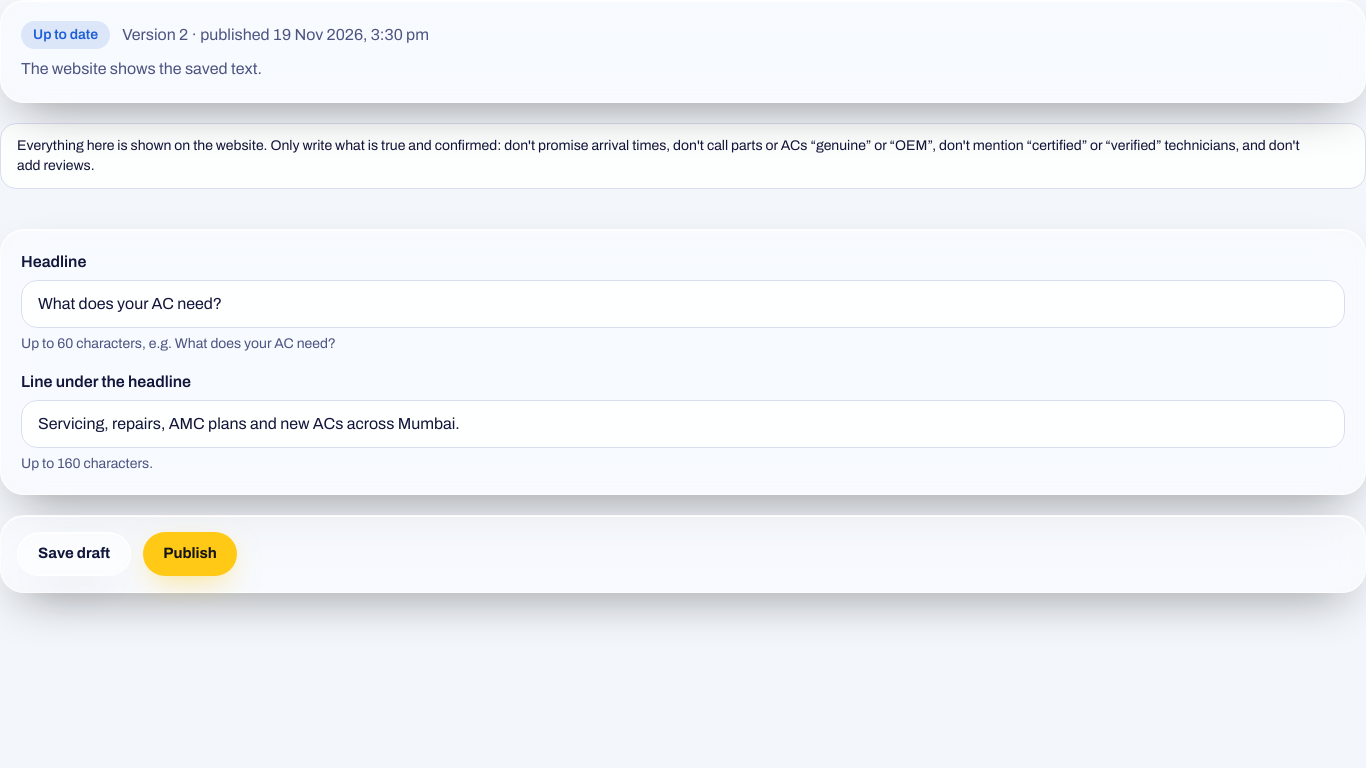
ContentEditor: saving and publishing › asks "Publish to the live website?" first, and publishes only on yes
What coordinates should you click on to do the following:
click the button "Publish"
I would click on:
 (190, 554)
Its box is top-left (143, 532), bottom-right (237, 576).
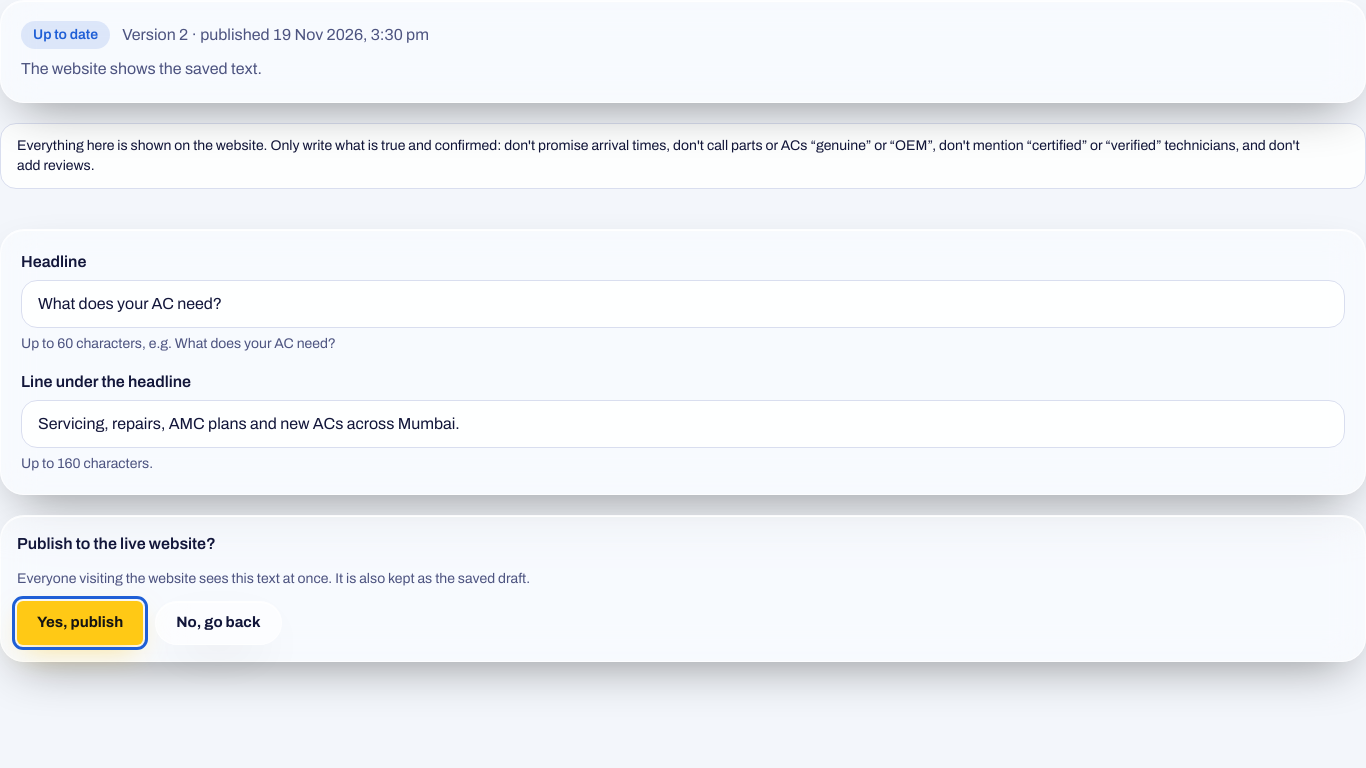
Now the text "Publish to the live website?" is shown, box top-left (17, 535), bottom-right (216, 552)
What coordinates should you click on to do the following:
click the button "No, go back"
I would click on:
 (218, 623)
Its box is top-left (155, 601), bottom-right (282, 645).
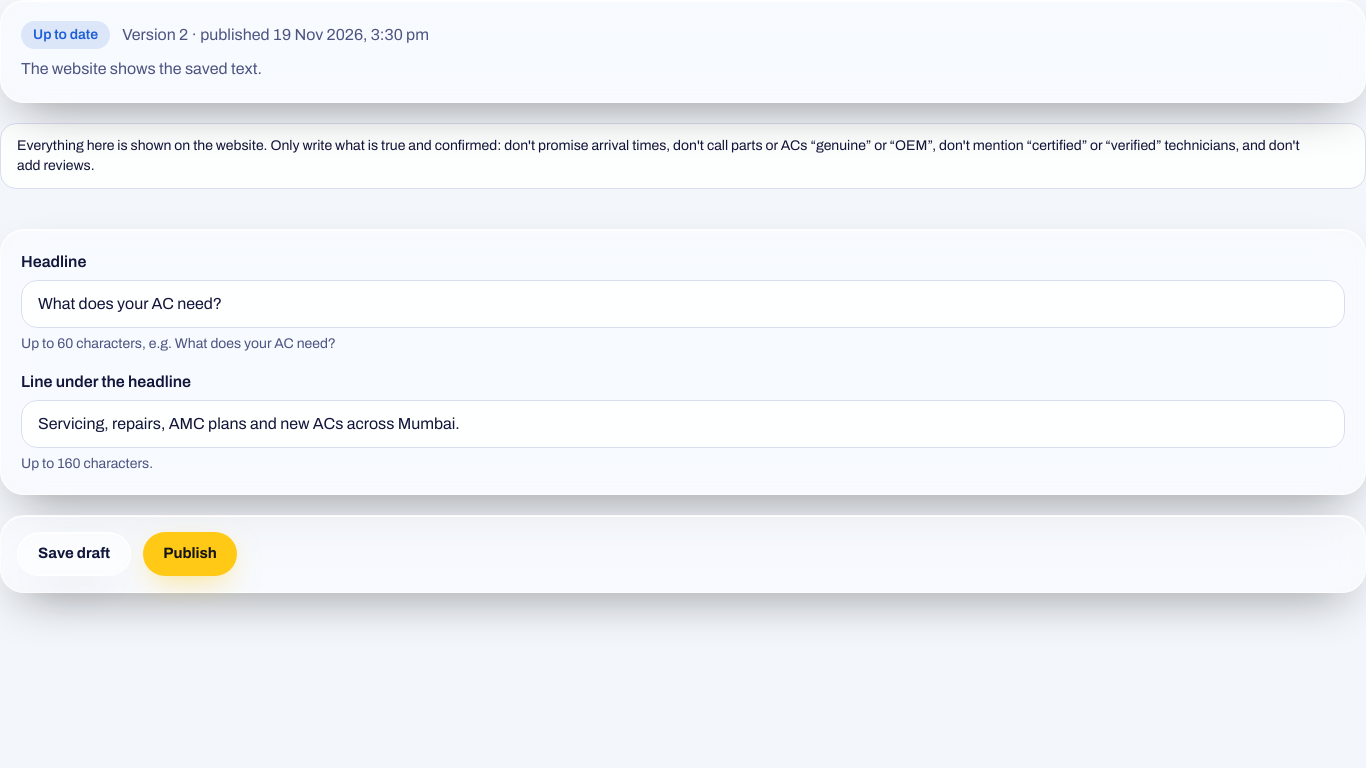
Now the text "Publish to the live website?" is gone
What coordinates should you click on to do the following:
click the button "Publish"
I would click on:
 (190, 554)
Its box is top-left (143, 532), bottom-right (237, 576).
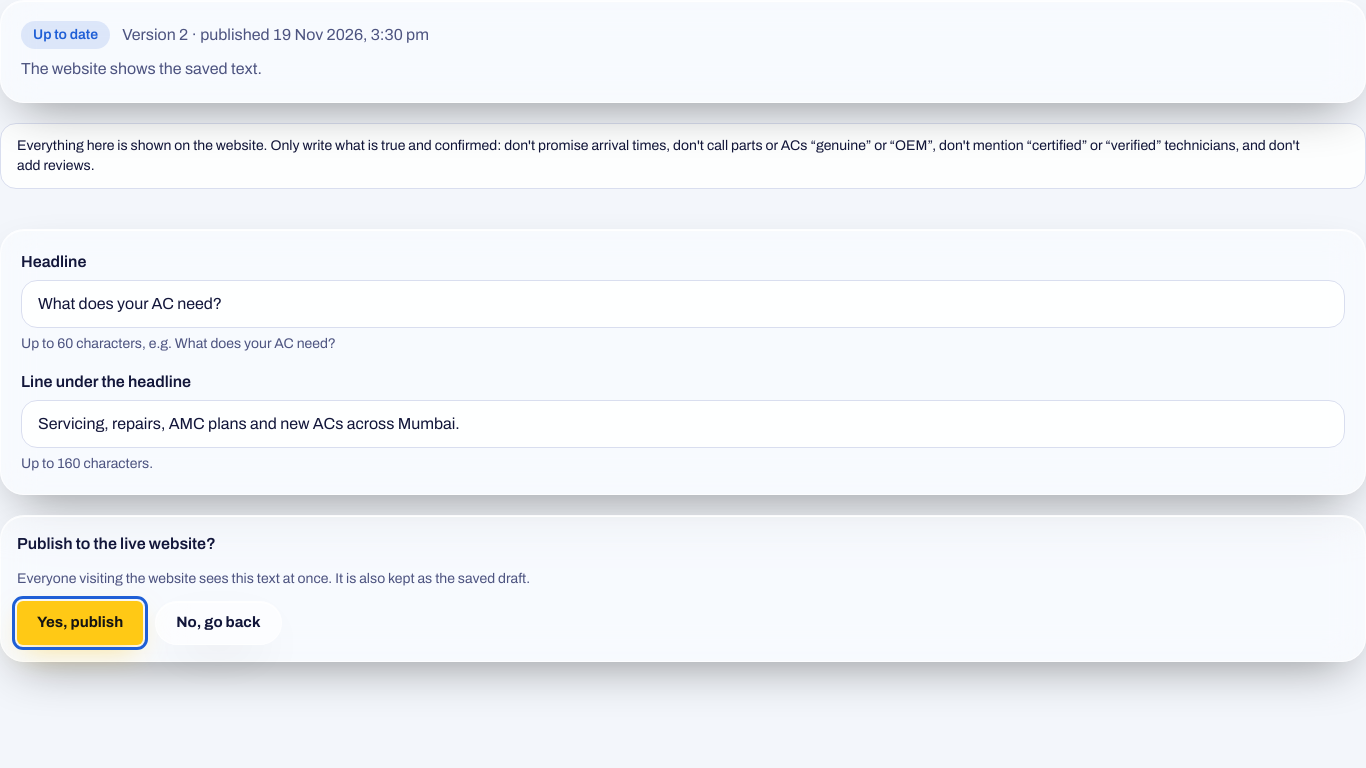
What coordinates should you click on to do the following:
click the button "Yes, publish"
I would click on:
 (80, 623)
Its box is top-left (17, 601), bottom-right (143, 645).
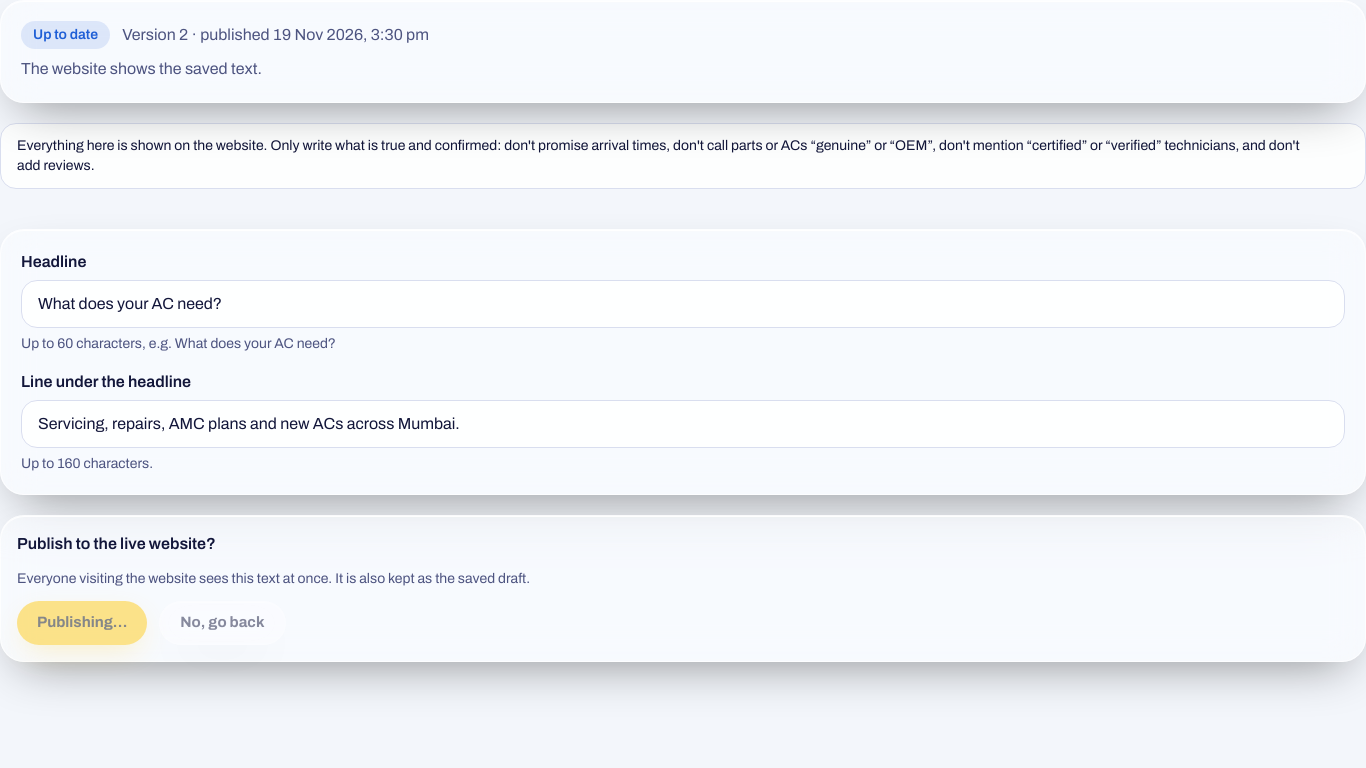
What coordinates should you click on to do the following:
click the button named "Yes, publish"
I would click on:
 (82, 623)
Its box is top-left (17, 601), bottom-right (148, 645).
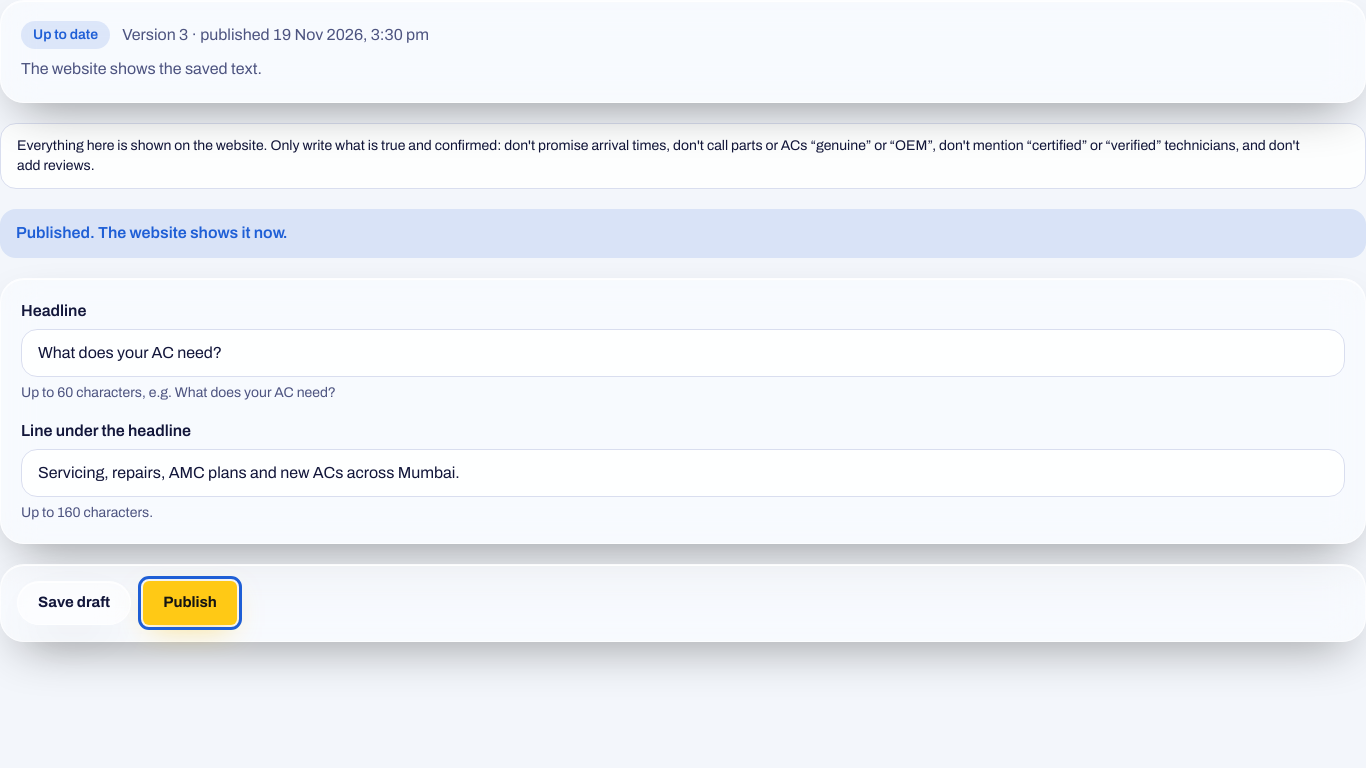
Now the message shows "Published", box top-left (16, 224), bottom-right (288, 241)
Now the text "Version 3 · published 19 Nov 2026, 3:30 pm" is shown, box top-left (122, 23), bottom-right (429, 47)
